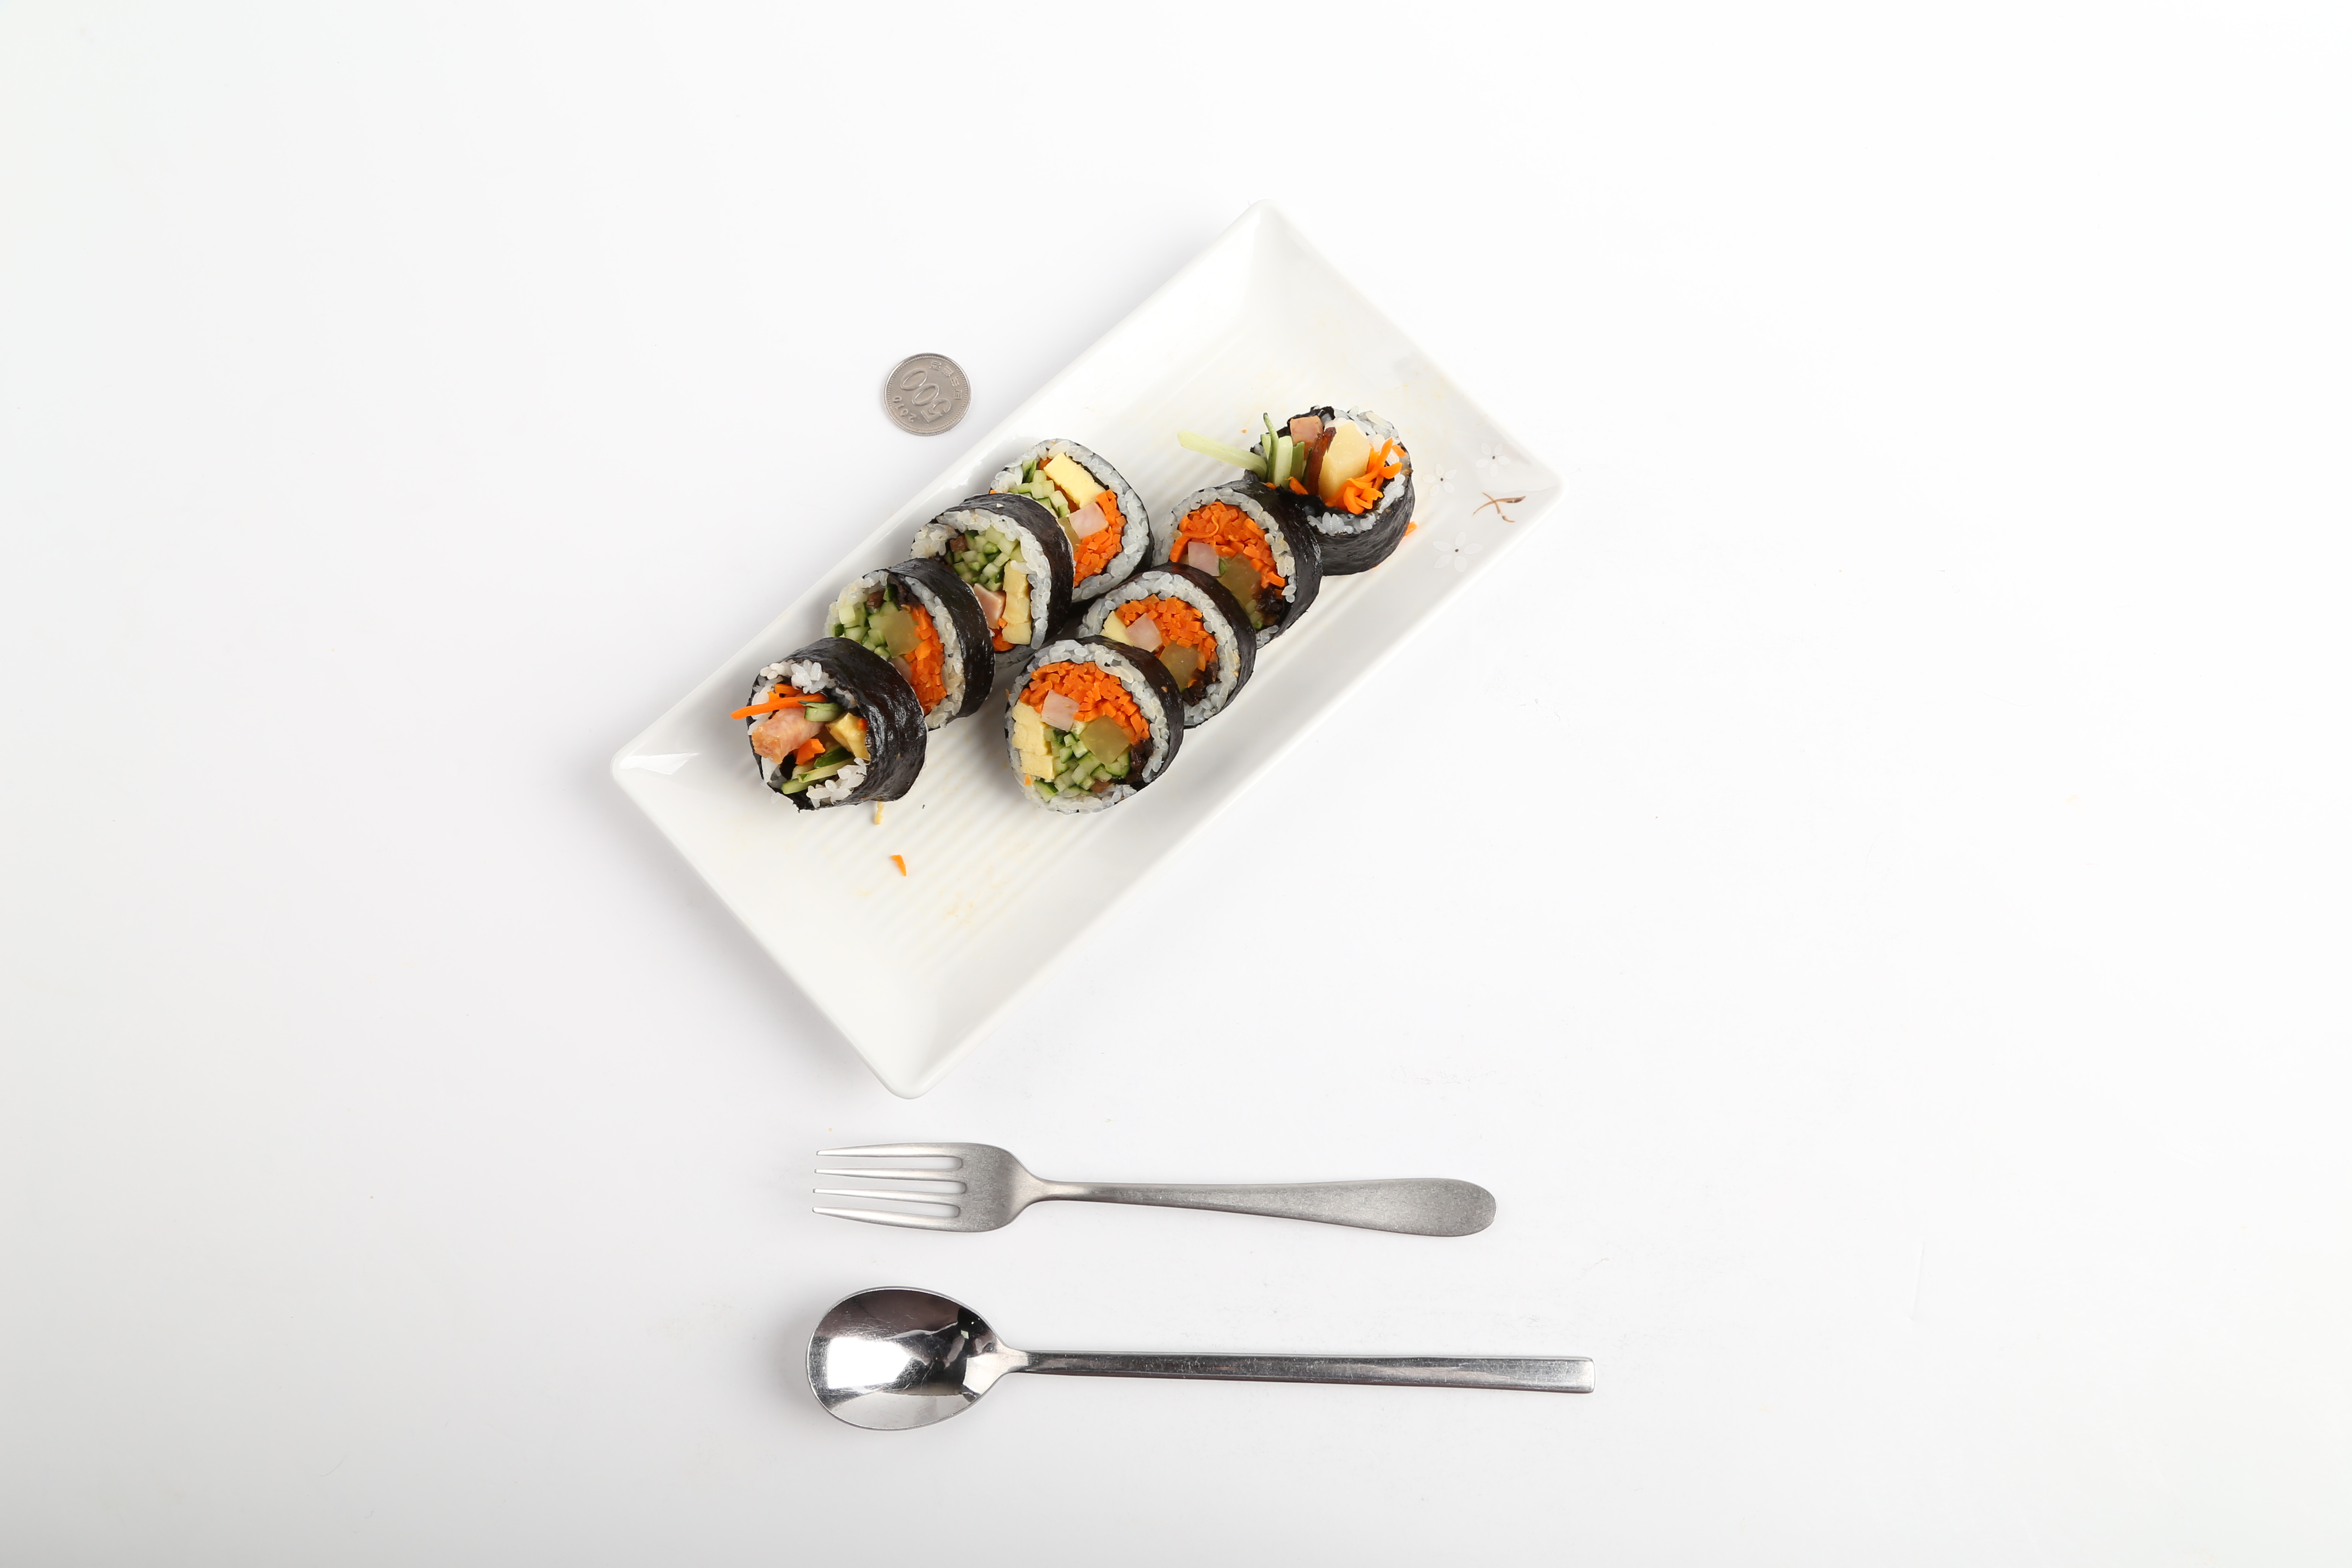dish: (614, 201, 1556, 1092)
ref_coin: (873, 343, 975, 441)
ref_fork: (808, 1136, 1085, 1241)
ref_spoon: (801, 1279, 1092, 1437)
김밥: (744, 406, 1416, 815)
